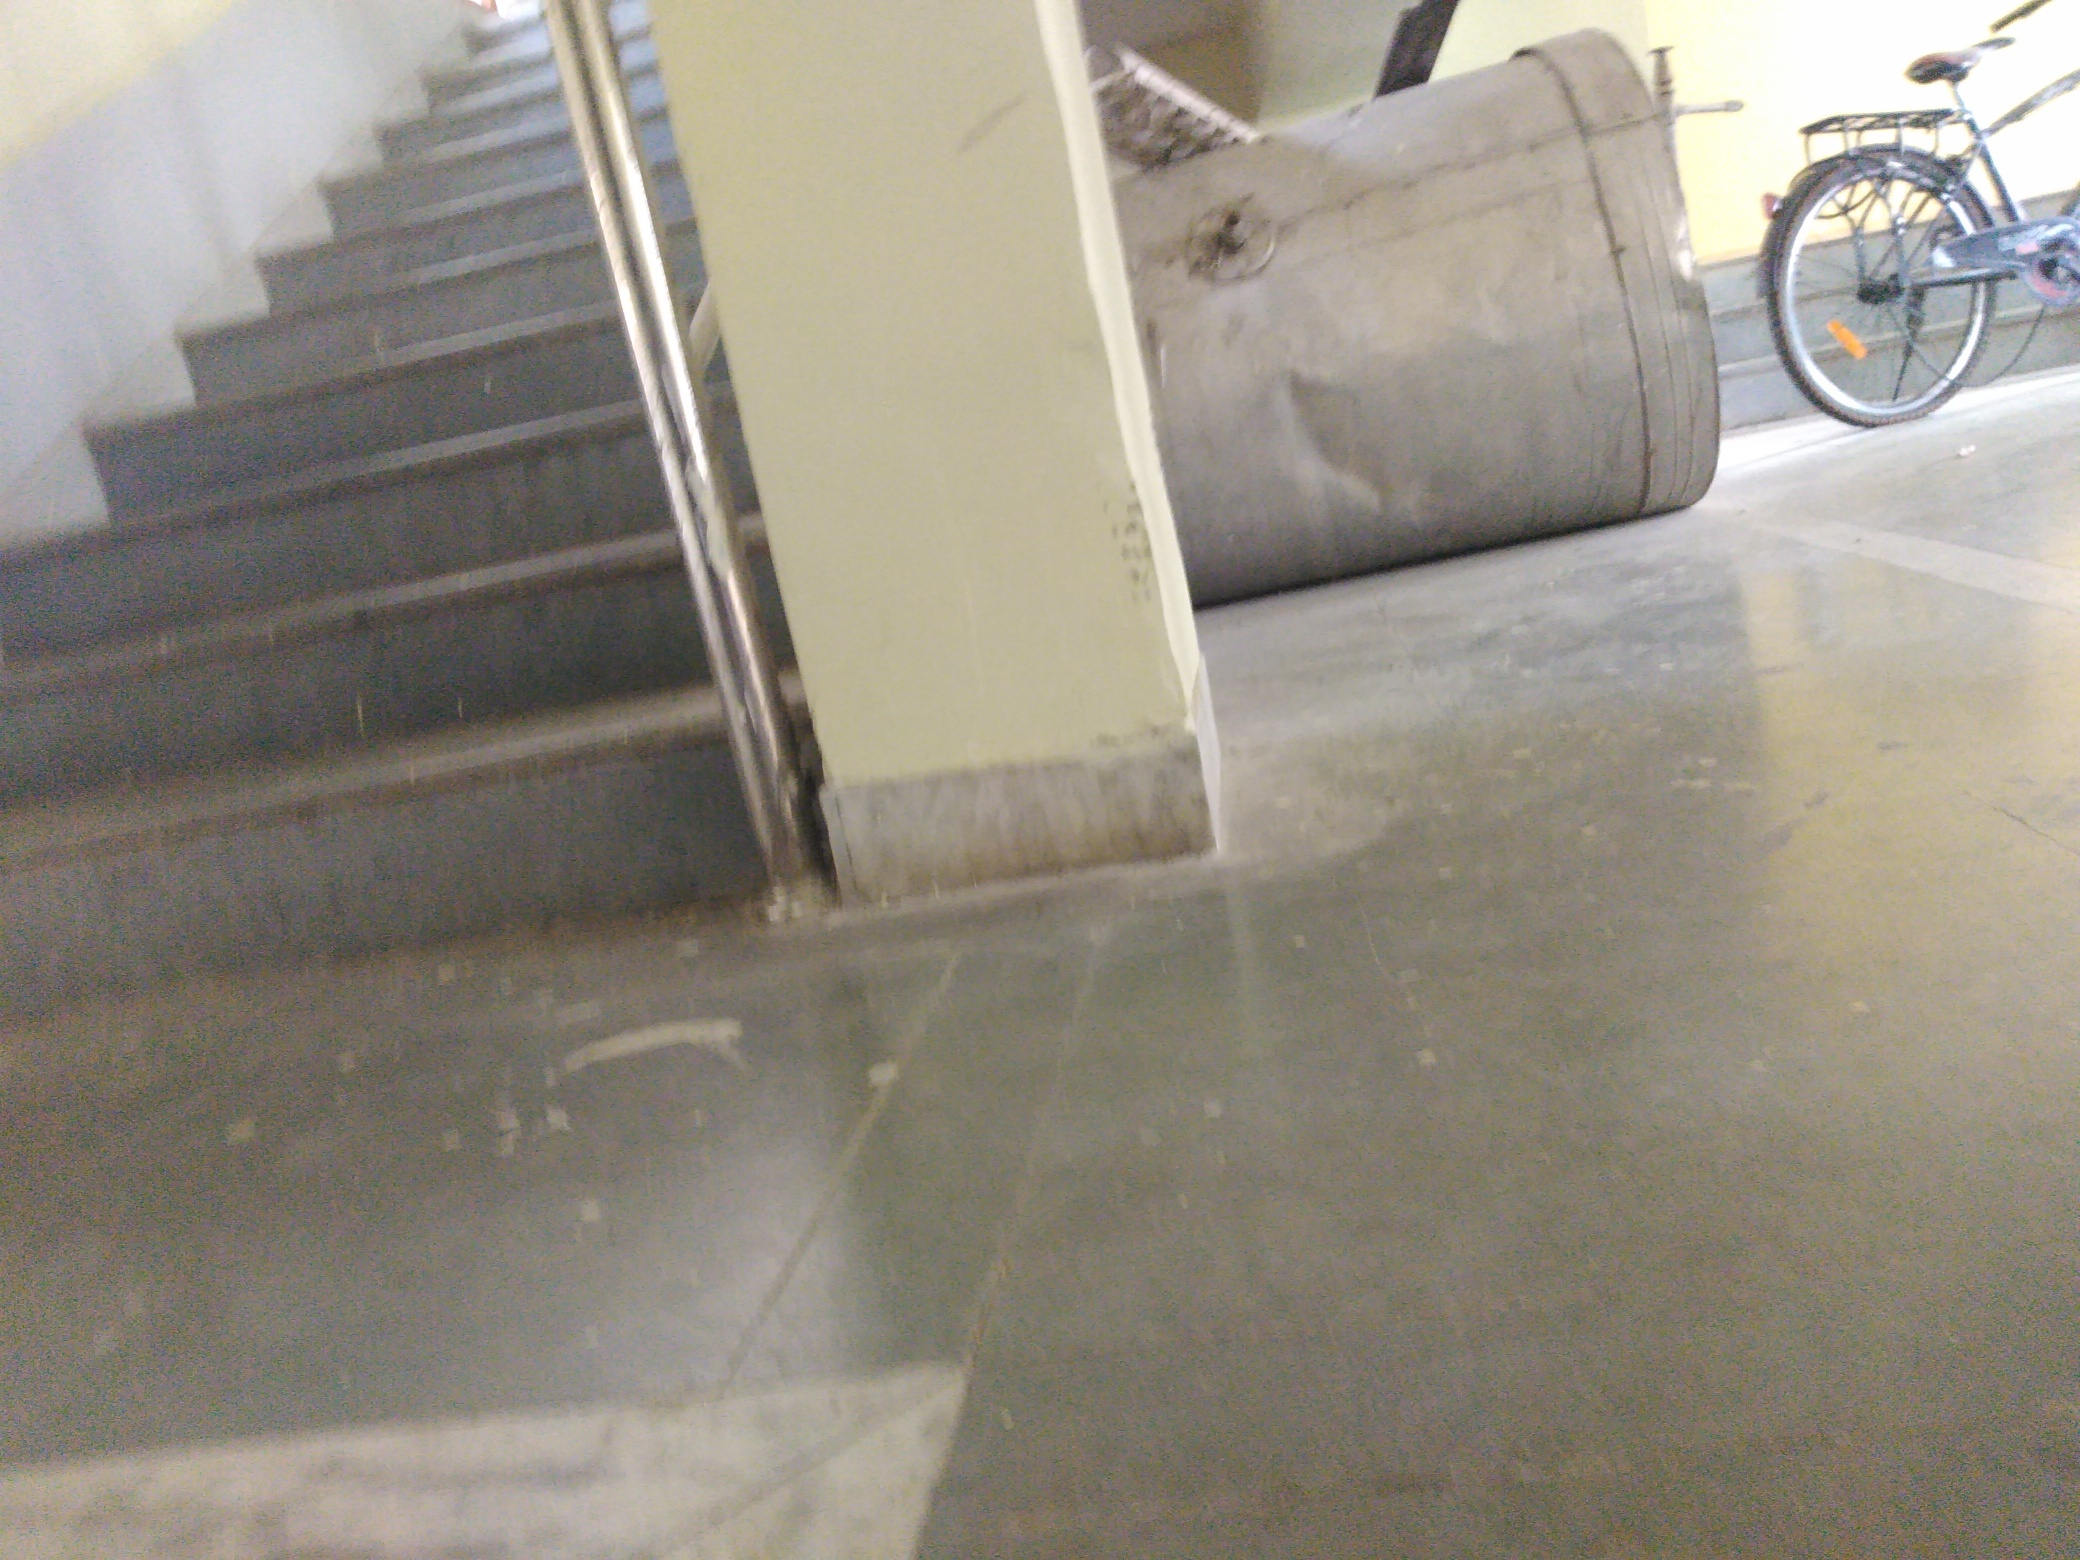stairs_up: (2, 7, 675, 929)
